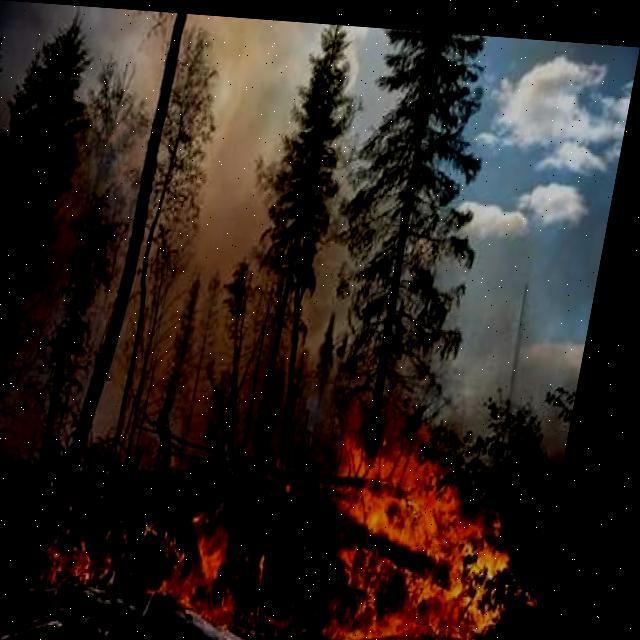Fire: (320, 393, 555, 639), (161, 504, 276, 626), (50, 510, 128, 590)
